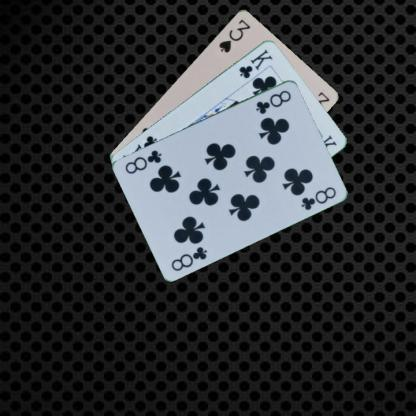3s: (216, 16, 252, 54)
8c: (168, 243, 209, 272), (252, 87, 292, 115)
Kc: (236, 46, 274, 80)
